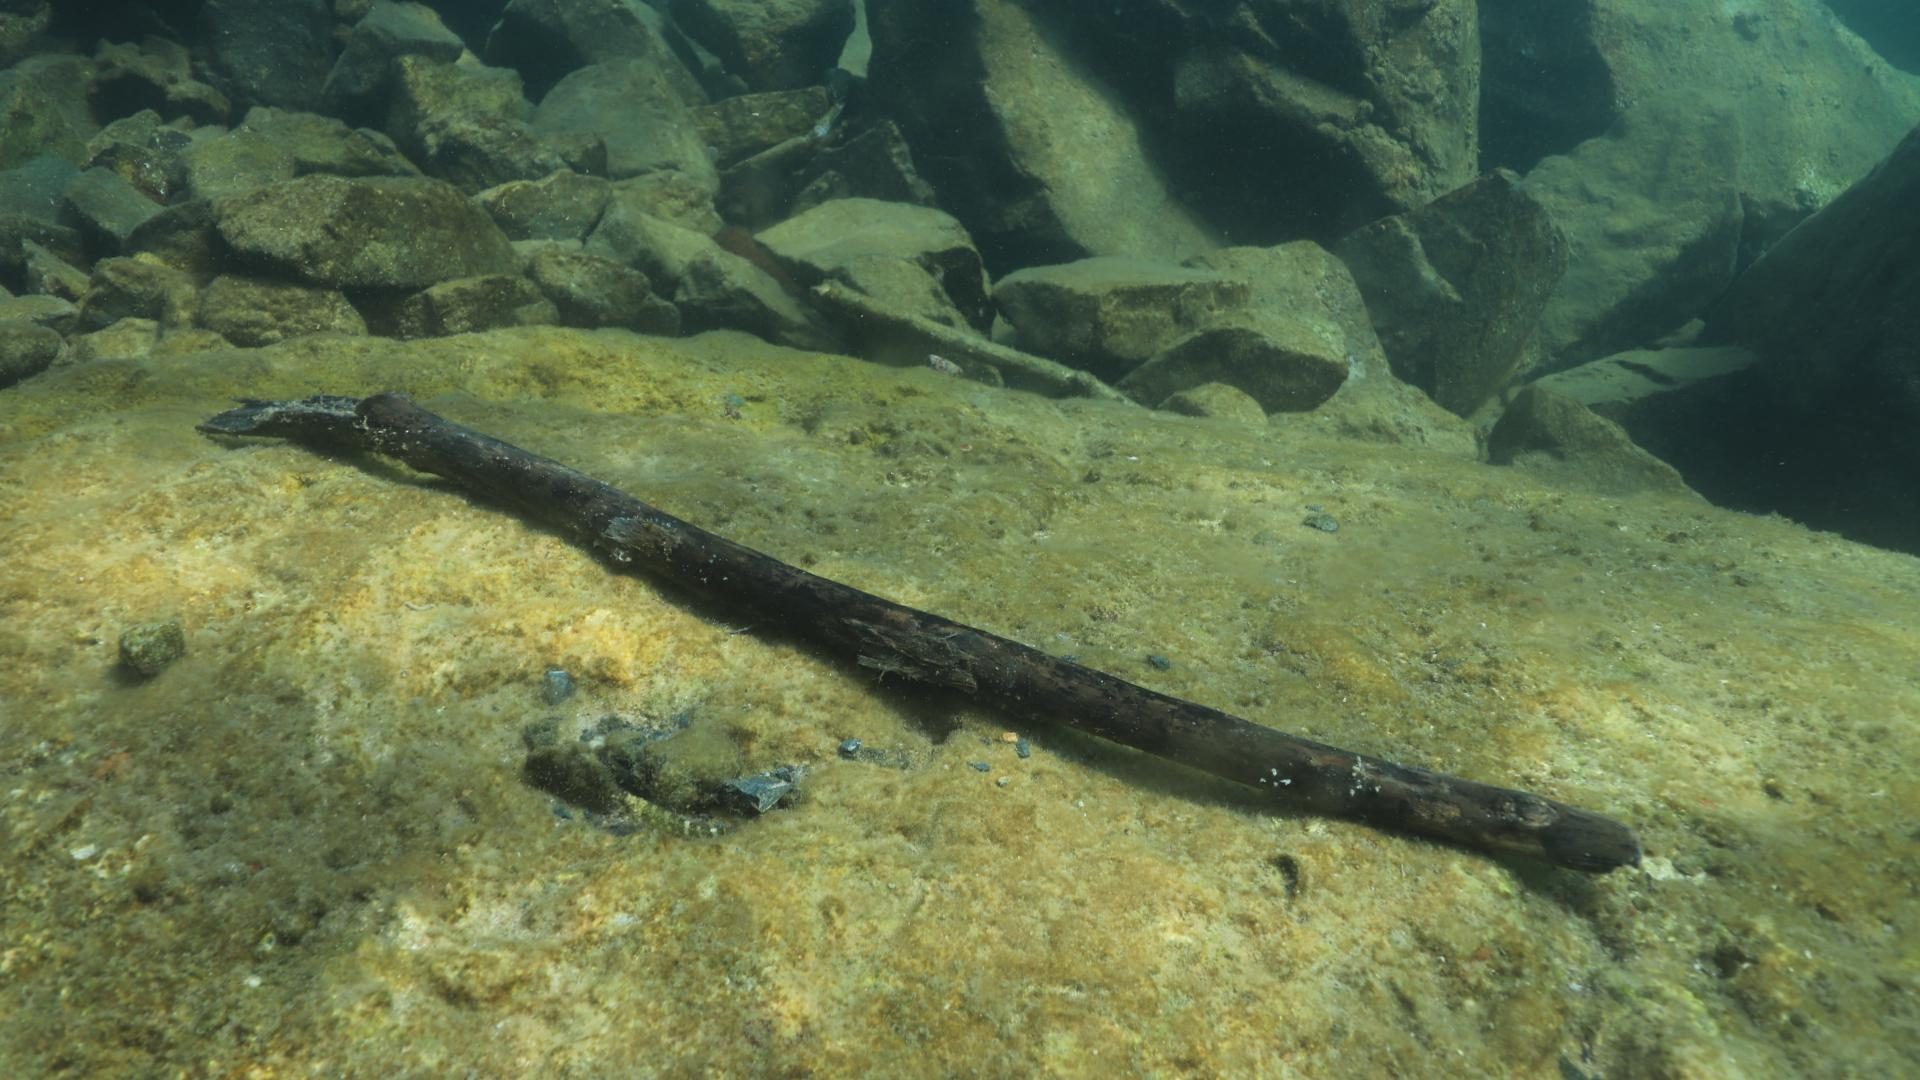wood: (193, 390, 1639, 869)
